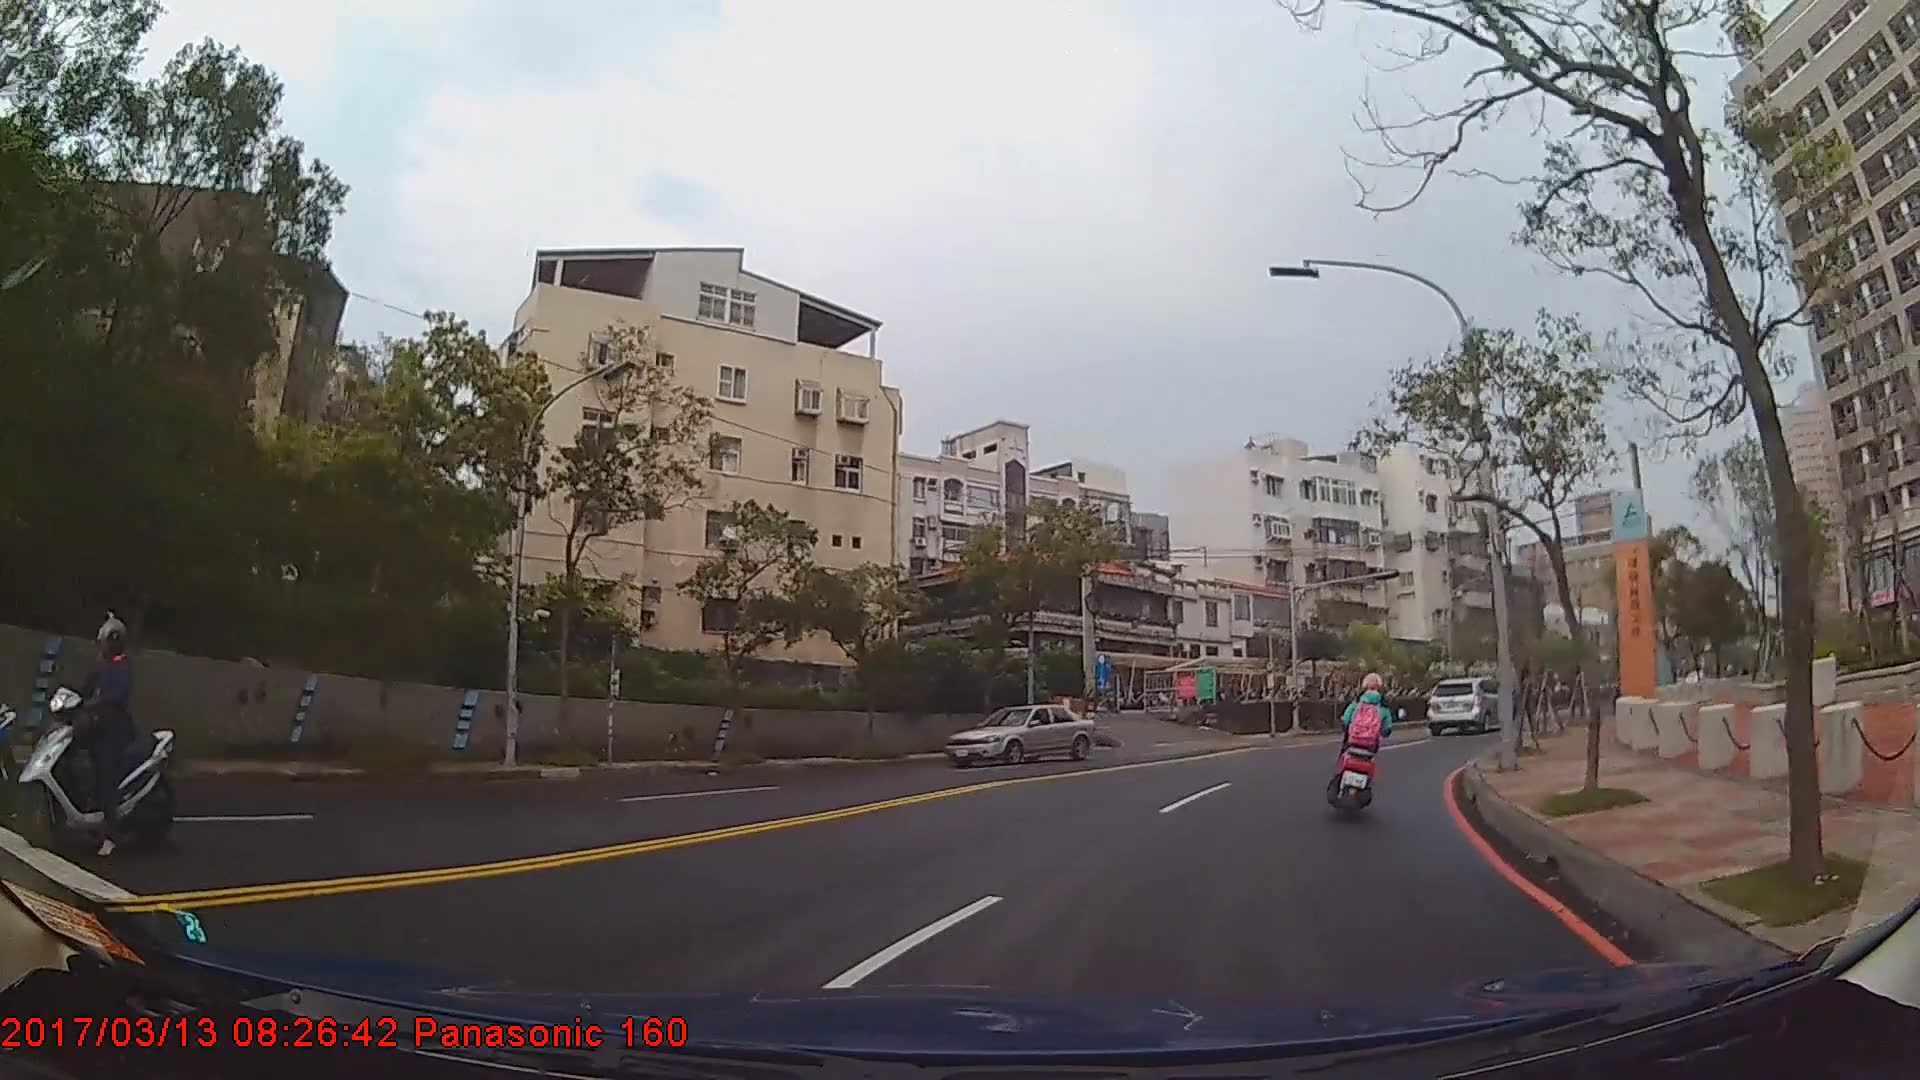rider: (20, 615, 170, 859), (1334, 670, 1397, 805)
vehicle: (942, 704, 1095, 766), (1425, 675, 1505, 736)
